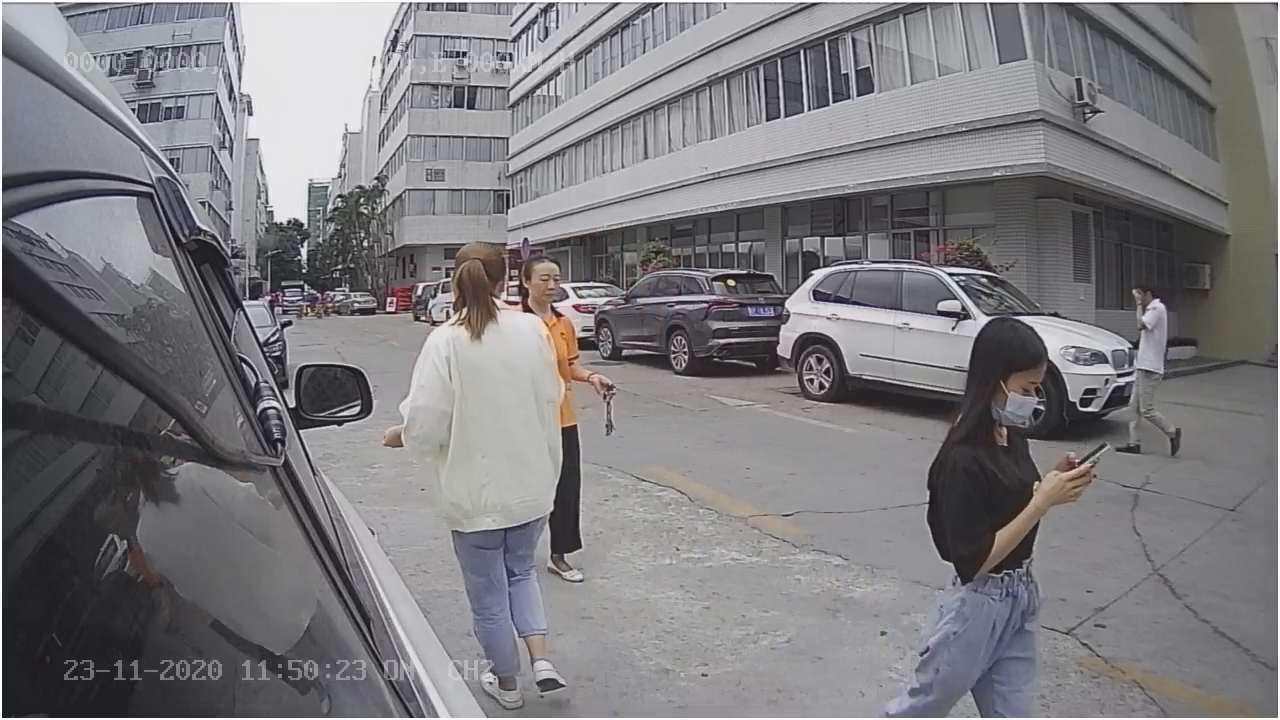person: (911, 311, 1101, 587), (1113, 279, 1186, 461)
